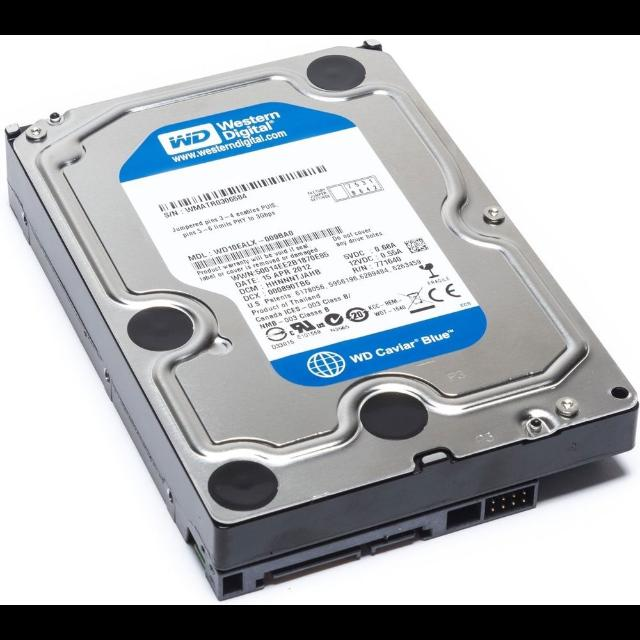HDD: (6, 43, 640, 601)
